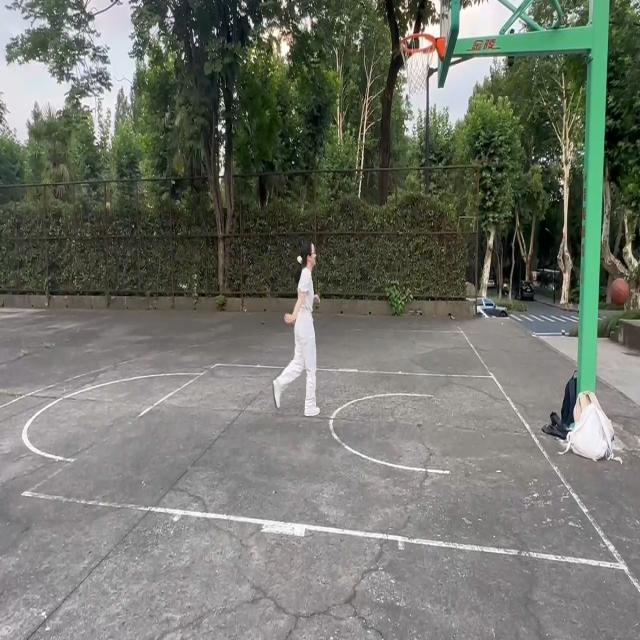basketball: (400, 34, 440, 100)
rim: (610, 277, 631, 308)
